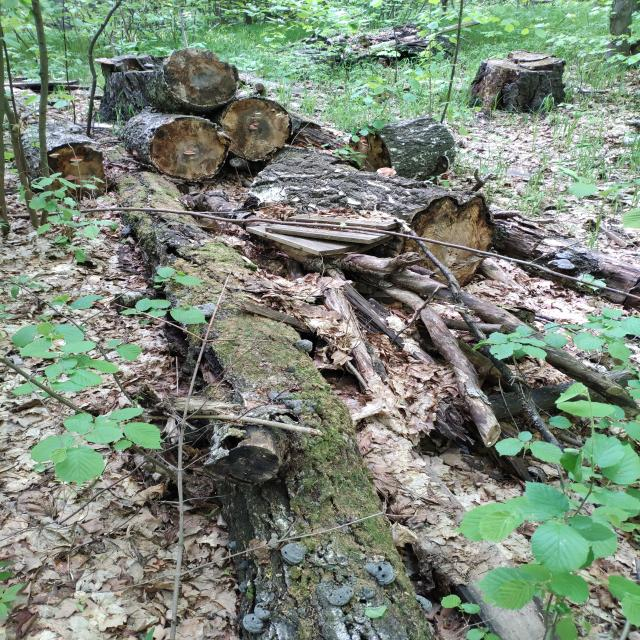restos de madeira: (253, 152, 491, 268), (445, 206, 640, 335), (344, 248, 547, 370), (111, 90, 294, 185), (502, 214, 640, 303), (414, 305, 495, 428), (317, 284, 393, 392), (339, 116, 460, 180), (15, 120, 112, 197), (469, 49, 569, 116), (560, 343, 640, 420), (198, 423, 286, 483), (161, 48, 242, 112), (95, 53, 159, 125), (168, 412, 312, 436), (512, 378, 560, 440), (5, 109, 41, 128)
